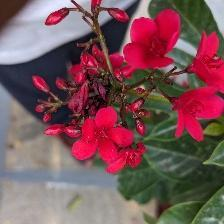jatropha: (70, 102, 137, 172)
